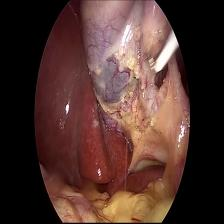Hook: (148, 24, 178, 82)
